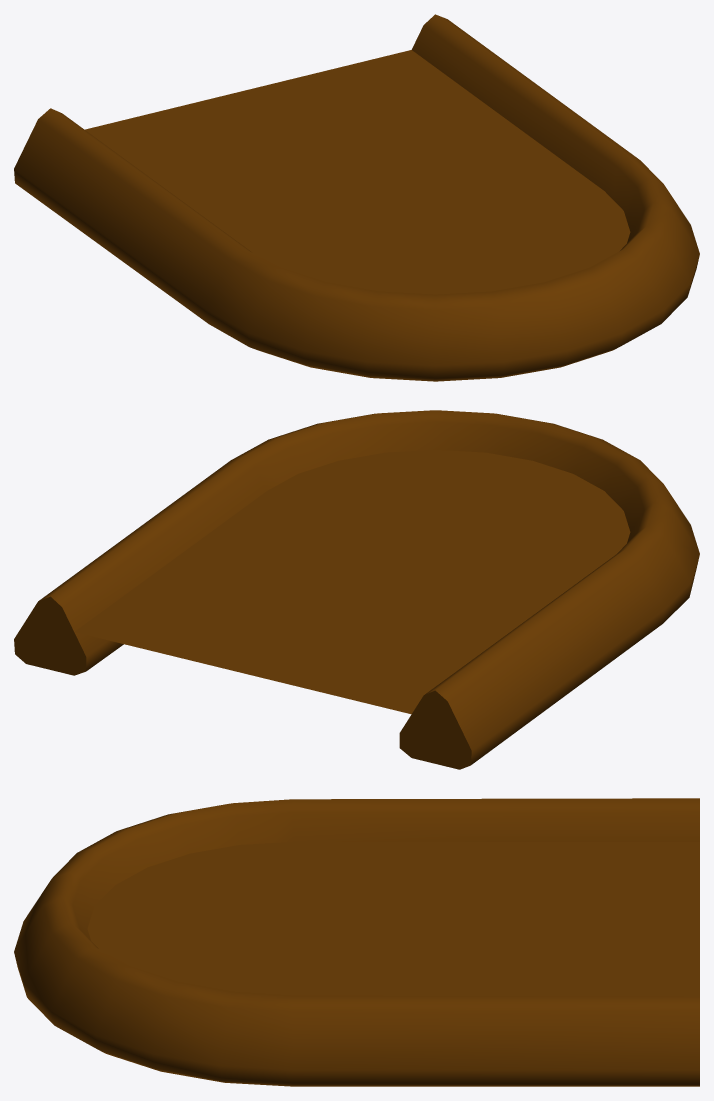
Rendered from hoop.glb.
The picture shows the model from 3 angles, top to bottom: view 1: azimuth 30°, elevation 25°; view 2: azimuth 150°, elevation 25°; view 3: azimuth 270°, elevation 25°; orthographic projection. The views are drawn at different scales.
Visible parts, largest first — view 1: levelStructure_HEX_X3_number_hoop_archway_plane, levelStructure_HEX_X3_number_hoop_archway; view 2: levelStructure_HEX_X3_number_hoop_archway_plane, levelStructure_HEX_X3_number_hoop_archway; view 3: levelStructure_HEX_X3_number_hoop_archway, levelStructure_HEX_X3_number_hoop_archway_plane.
Boxes of the visible parts, <box> form: levelStructure_HEX_X3_number_hoop_archway_plane: <box>85,50,630,294</box>; levelStructure_HEX_X3_number_hoop_archway: <box>14,14,699,381</box>; levelStructure_HEX_X3_number_hoop_archway_plane: <box>75,450,630,714</box>; levelStructure_HEX_X3_number_hoop_archway: <box>14,410,699,769</box>; levelStructure_HEX_X3_number_hoop_archway: <box>14,798,699,1086</box>; levelStructure_HEX_X3_number_hoop_archway_plane: <box>87,842,699,996</box>.
Size of the model in its own units: 2.74 by 0.4202 by 3.37.
